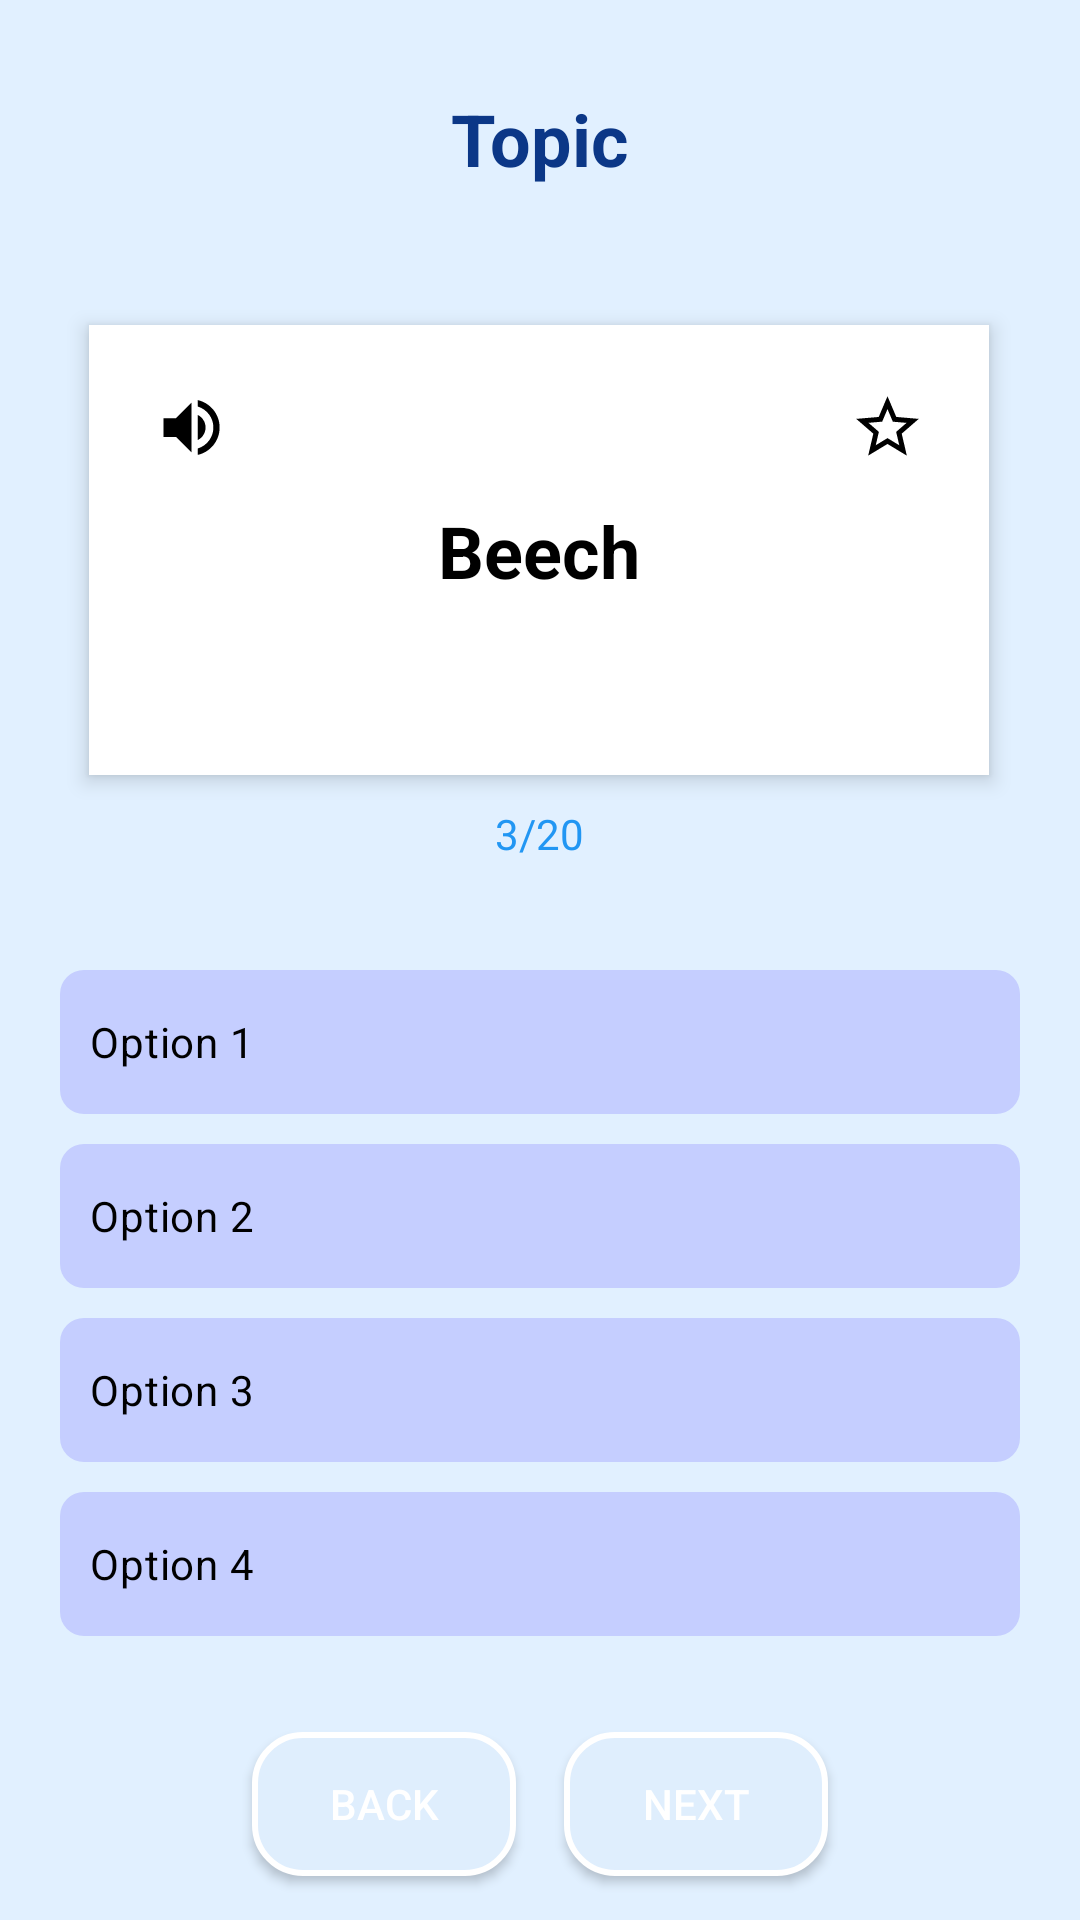

Locate icon controls on the screen. Image size 1080 x 1920, boxes as (x1, y1, x2, y2).
Favorite Question: (856, 396, 919, 456)
Play Sound: (163, 400, 220, 455)
